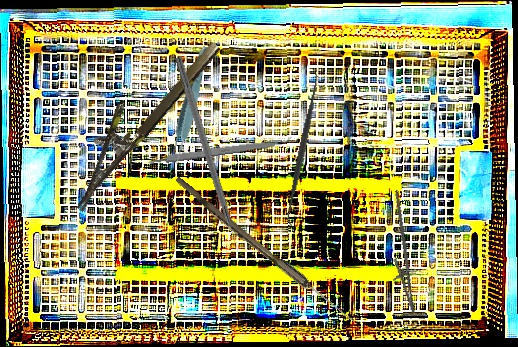Hook Surgical: (173, 55, 244, 259)
Needle Holder: (49, 21, 223, 213), (371, 189, 430, 317)
Scalpel Handle: (147, 137, 282, 166)
Spatula Surgical: (278, 71, 327, 228)
Surgical Spoon: (171, 176, 358, 325)
Tissue Forceps: (166, 44, 213, 166)
